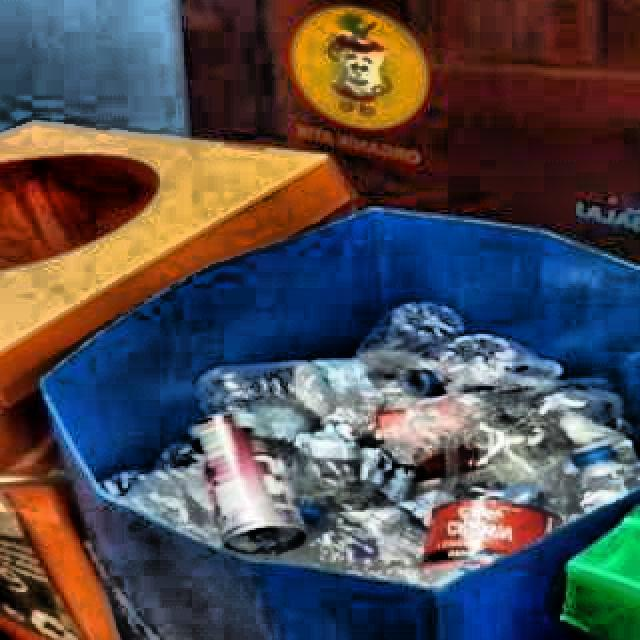metal: (192, 414, 307, 556)
